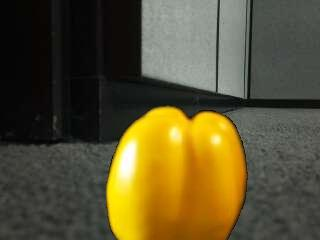Capsicum: (103, 103, 250, 240)
